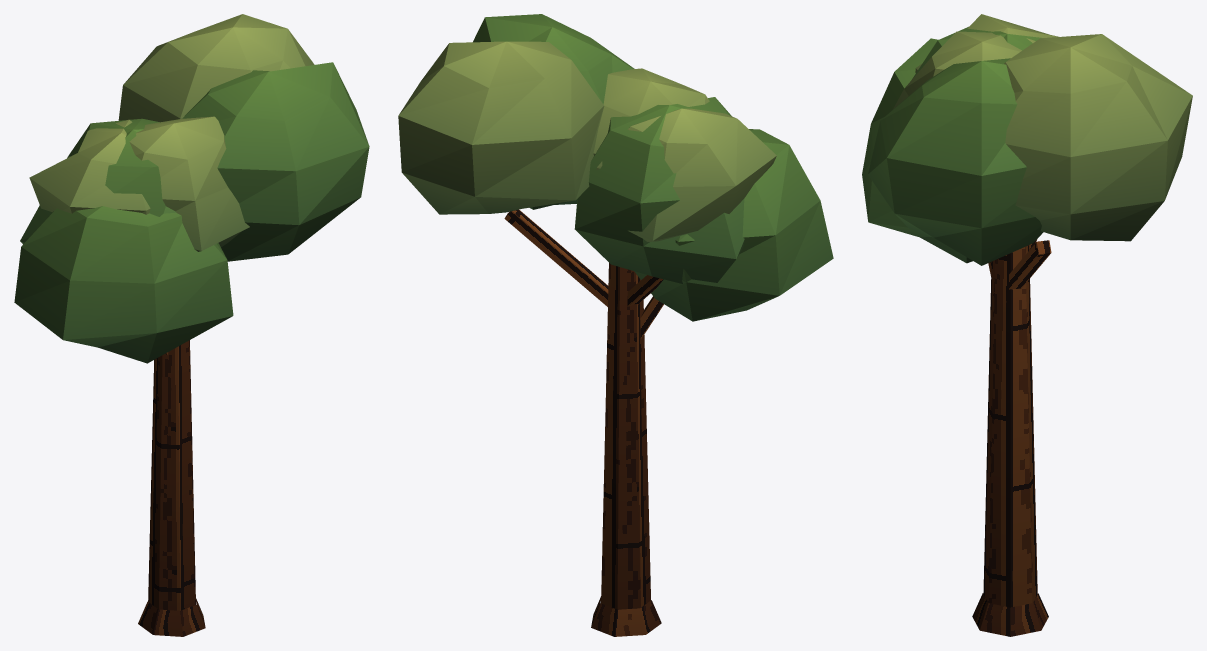
File: birch_3_lowpoly.glb
3 views of the same model, side by side, from view 1: azimuth 30°, elevation 25°; view 2: azimuth 150°, elevation 25°; view 3: azimuth 270°, elevation 25° (orthographic). The views are drawn at different scales.
Visible parts, largest first — view 1: birch_3_lowpoly; view 2: birch_3_lowpoly; view 3: birch_3_lowpoly.
Boxes of the visible parts, bbox=[...] form: birch_3_lowpoly: bbox=[14, 14, 369, 636]; birch_3_lowpoly: bbox=[398, 14, 833, 636]; birch_3_lowpoly: bbox=[862, 14, 1192, 636].
Size of the model in its own units: 3.88 by 6.26 by 3.03.
Materials: 2 (1 with a texture image).
